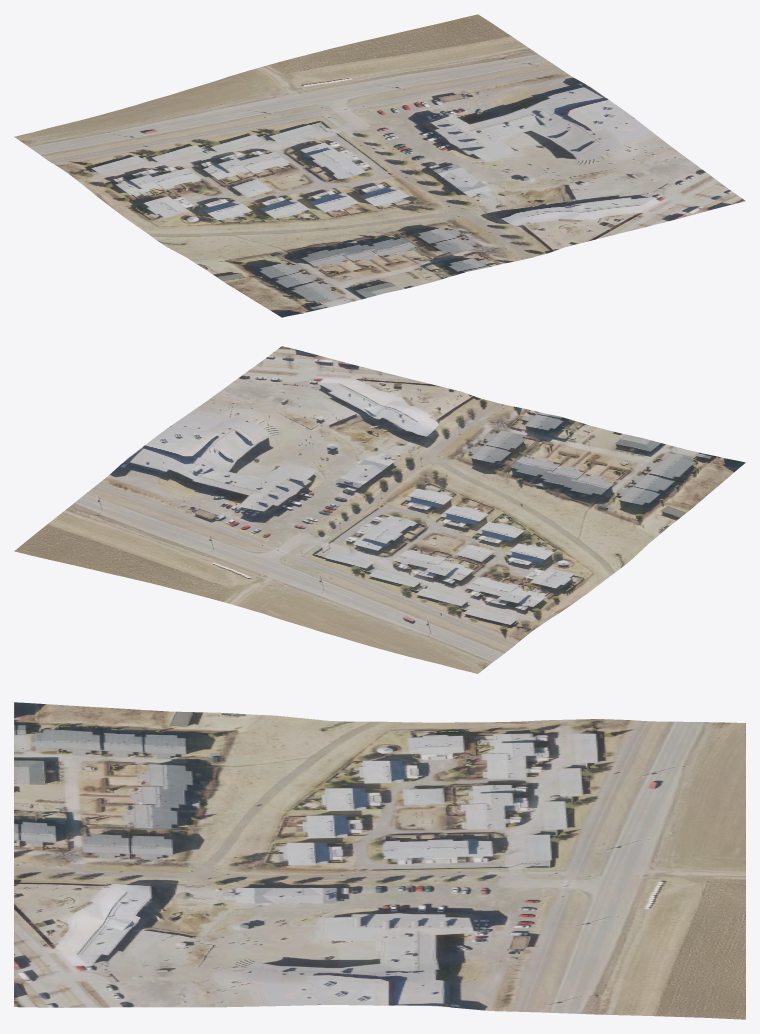
File: CM_Terrain_24490458_6818770.fbx
3 views of the same model, one above another, from view 1: azimuth 30°, elevation 25°; view 2: azimuth 150°, elevation 25°; view 3: azimuth 270°, elevation 25° (orthographic). The views are drawn at different scales.
Visible parts, largest first — view 1: CM_Terrain_24490458_6818770_LOD0; view 2: CM_Terrain_24490458_6818770_LOD0; view 3: CM_Terrain_24490458_6818770_LOD0.
Boxes of the visible parts, x1,y1,x2,y2 form: CM_Terrain_24490458_6818770_LOD0: (14,14,745,317); CM_Terrain_24490458_6818770_LOD0: (14,346,745,673); CM_Terrain_24490458_6818770_LOD0: (14,702,745,1019).
Size of what is drawn, in the model's own units: 205 by 8.64 by 205.
